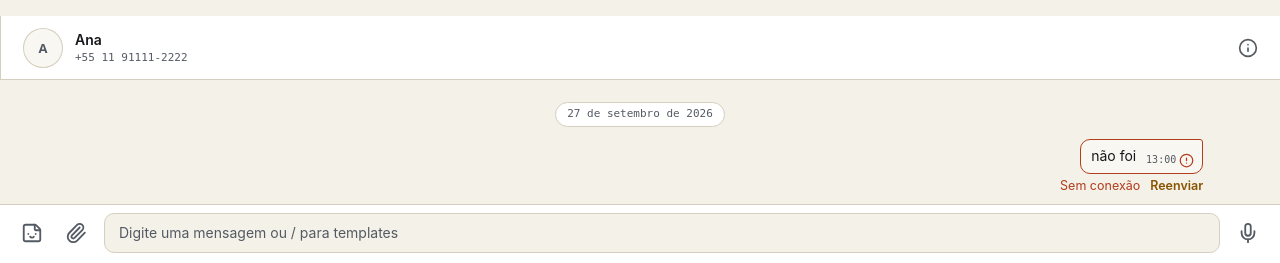
Chat › mensagem que falhou mostra "Reenviar" e reenvia
(page scrolled)
Expected: the text "Sem conexão" is shown, [1060,177,1140,196]
Expected: the picture named "Não enviada" is shown, [1179,153,1194,168]
Click the button "Reenviar".
click(1177, 186)  # box [1150,177,1203,196]
(page scrolled)
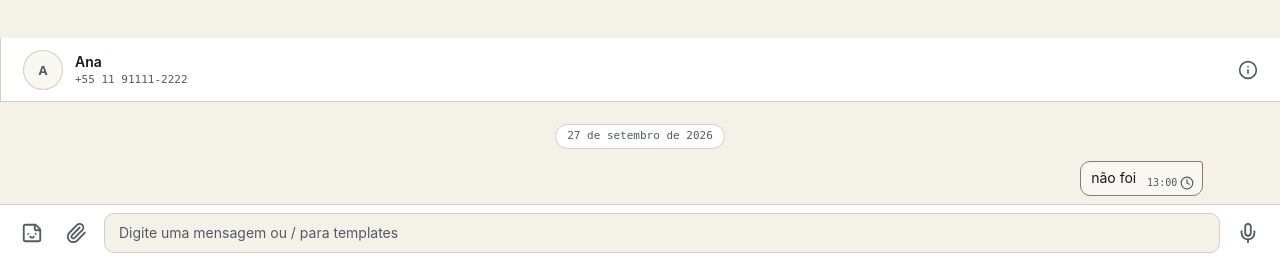
Result: the picture named "Enviando" is shown at [1180,176,1194,190]
